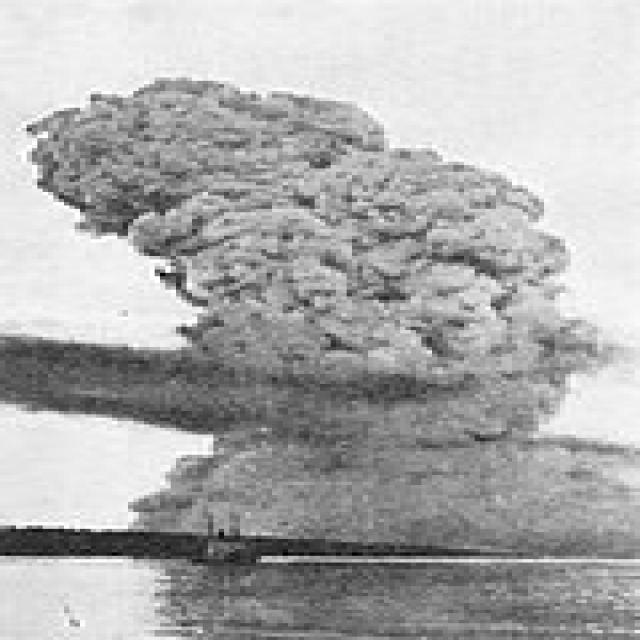explosion: (23, 68, 640, 631)
